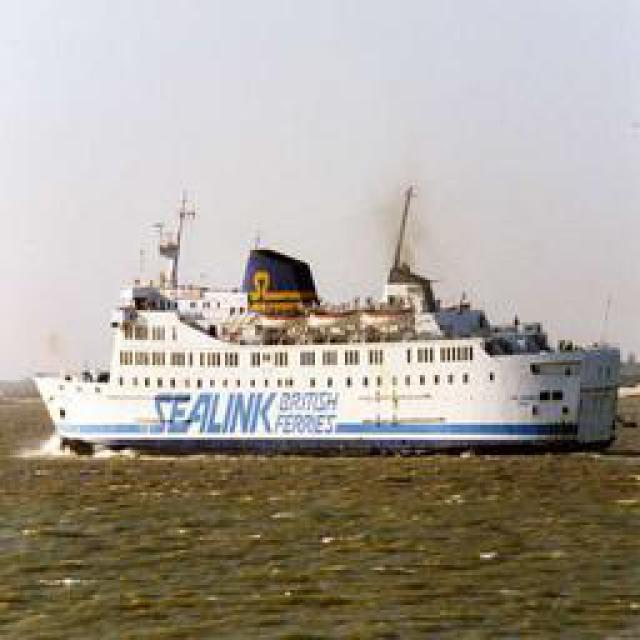Ship: (30, 249, 618, 454)
